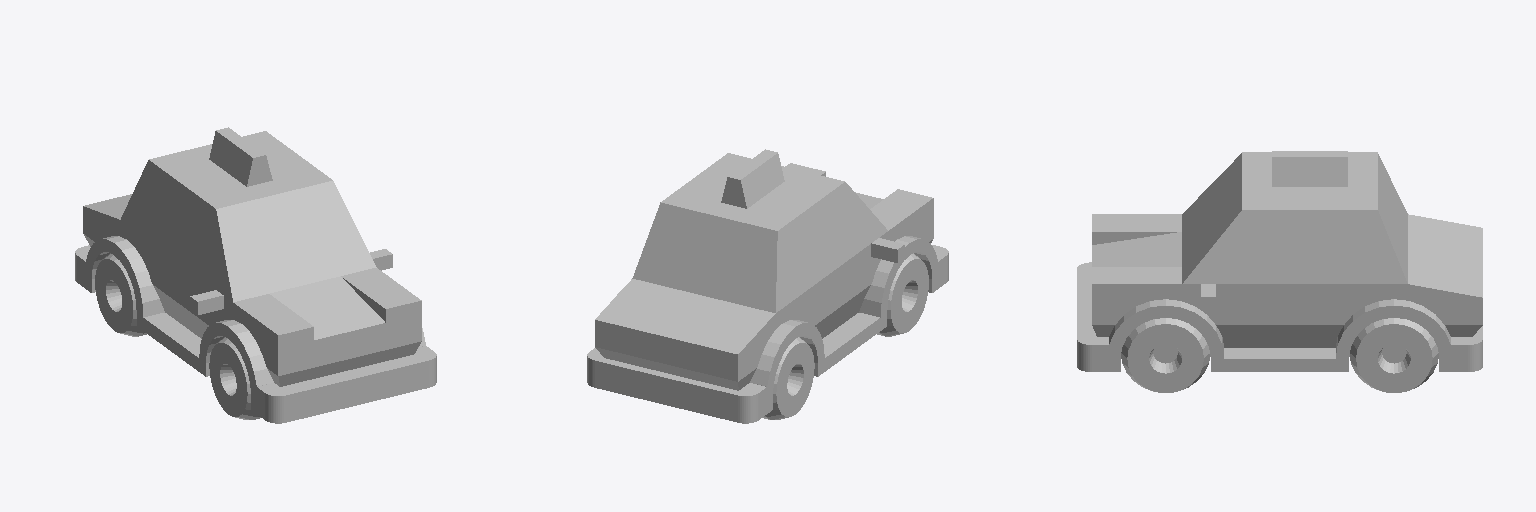
File: taxi.obj
The picture shows the model from 3 angles: view 1: azimuth 30°, elevation 25°; view 2: azimuth 150°, elevation 25°; view 3: azimuth 270°, elevation 25°; orthographic projection.
Parts seen in each view (by area): view 1: body, wheel_backRight, wheel_frontRight; view 2: body, wheel_frontRight, wheel_backRight; view 3: body, wheel_backLeft, wheel_frontLeft.
Boxes of the visible parts, <box> form: body: <box>75,127,436,423</box>; wheel_backRight: <box>95,253,146,336</box>; wheel_frontRight: <box>209,337,260,419</box>; body: <box>587,149,948,423</box>; wheel_frontRight: <box>877,253,928,336</box>; wheel_backRight: <box>763,337,814,419</box>; body: <box>1077,151,1482,371</box>; wheel_backLeft: <box>1350,318,1438,392</box>; wheel_frontLeft: <box>1121,318,1209,392</box>.
Bounding box in the file's own units: 1.12 × 1.12 × 2.02.